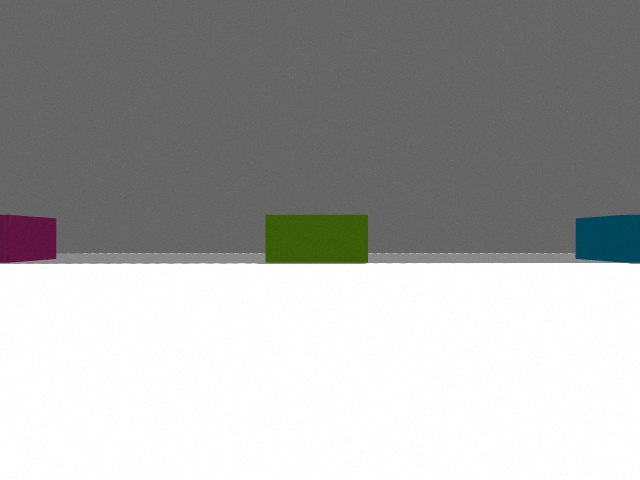blue_drop_zone: (575, 215, 640, 263)
green_drop_zone: (265, 215, 368, 263)
red_drop_zone: (0, 215, 56, 263)
